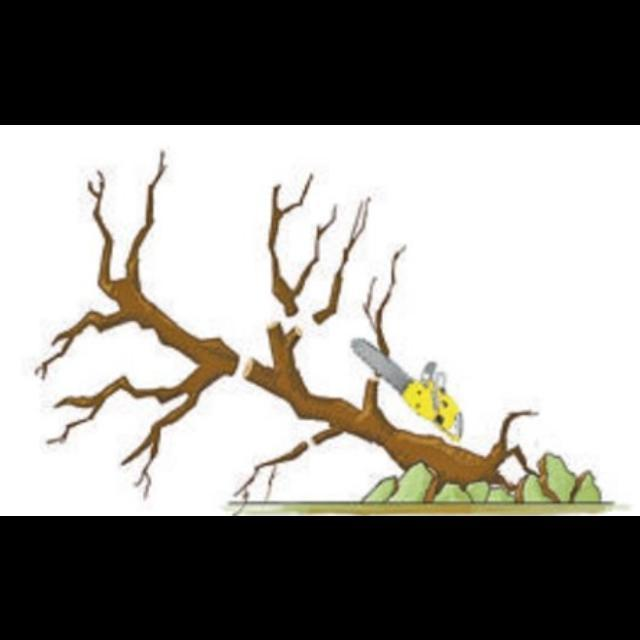fallen_tree: (32, 148, 550, 494)
